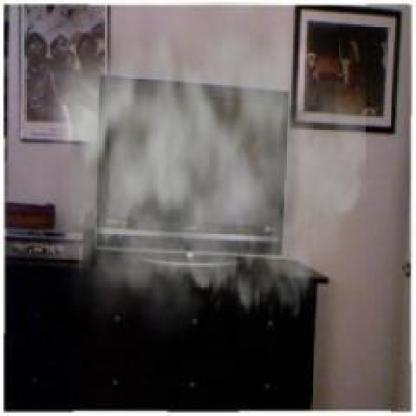Smoke: (27, 2, 366, 352)
